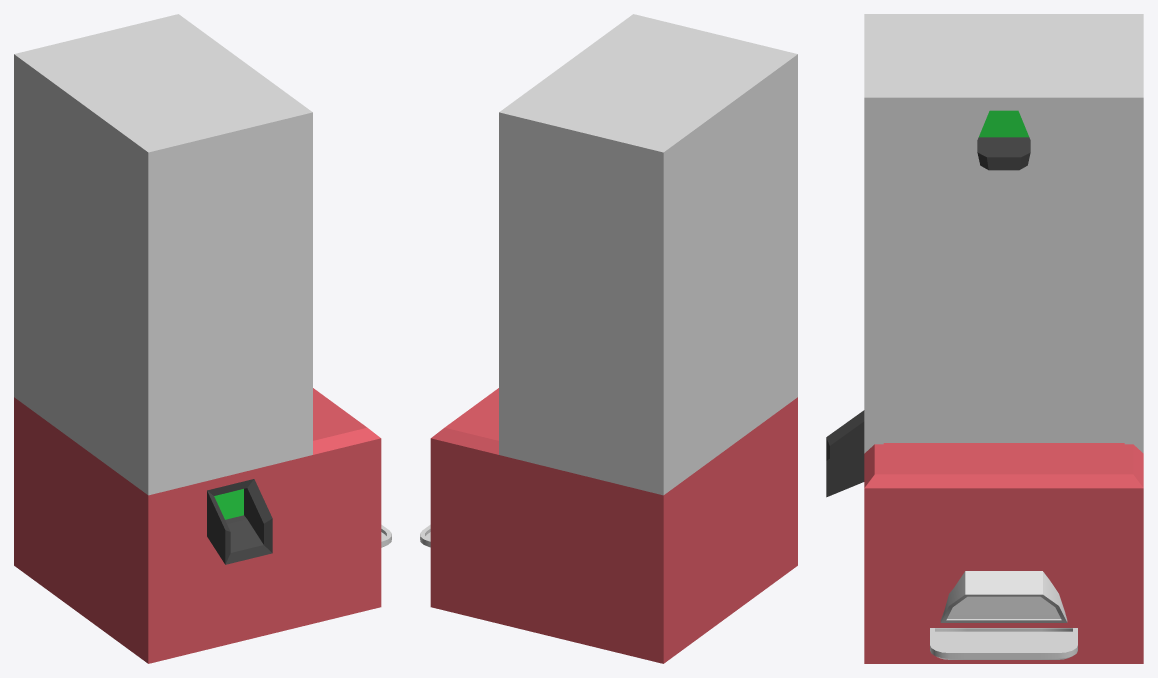
Rendered from Plink.fbx.
3 views of the same model, side by side, from view 1: azimuth 30°, elevation 25°; view 2: azimuth 150°, elevation 25°; view 3: azimuth 270°, elevation 25° (orthographic). The views are drawn at different scales.
Parts seen in each view (by area): view 1: Cube.030; view 2: Cube.030; view 3: Cube.030, Cube.037, Cube.029.
Part boxes in pixels (bbox=[...]): Cube.030: bbox=[14, 14, 381, 663]; Cube.030: bbox=[430, 14, 797, 663]; Cube.030: bbox=[826, 14, 1143, 663]; Cube.037: bbox=[883, 153, 1124, 442]; Cube.029: bbox=[930, 571, 1077, 659].
Bounding box in the file's own units: 2.43 × 4.2 × 2.27.
